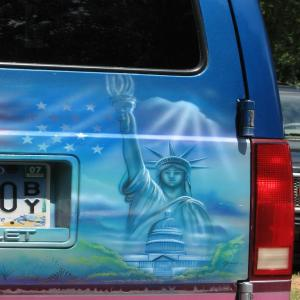Vehicle-registration-plate: (1, 163, 56, 229)
